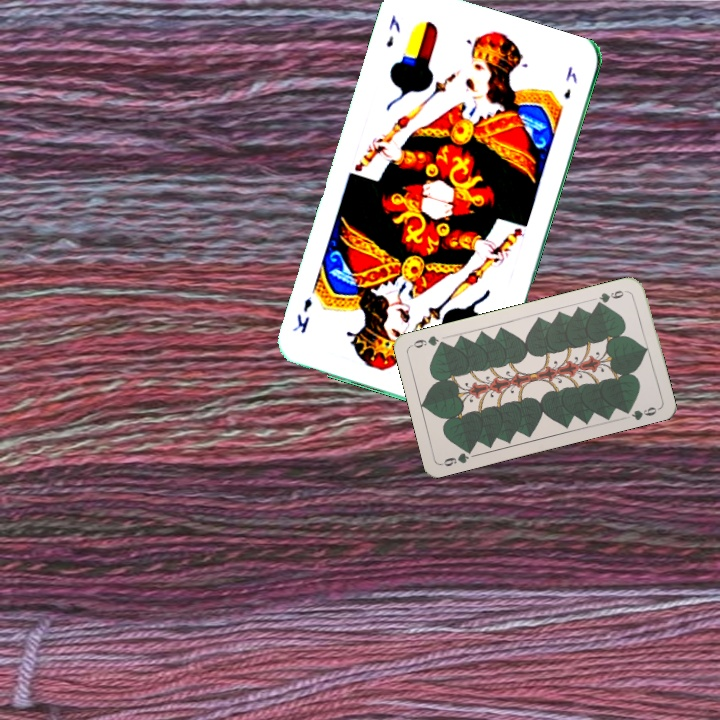EK: (382, 11, 403, 50)
G9: (438, 444, 476, 469), (592, 286, 631, 308)
